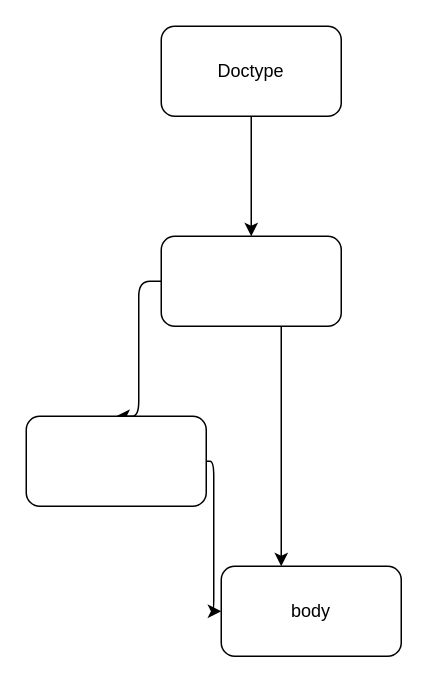
Some shapes in this 428 by 683 pixel diagram are drawn without their labels. Here are the shapes that lost their labels. From the top down, the centre of each, then its label:
At (250,280): "html".
At (115,460): "head".
